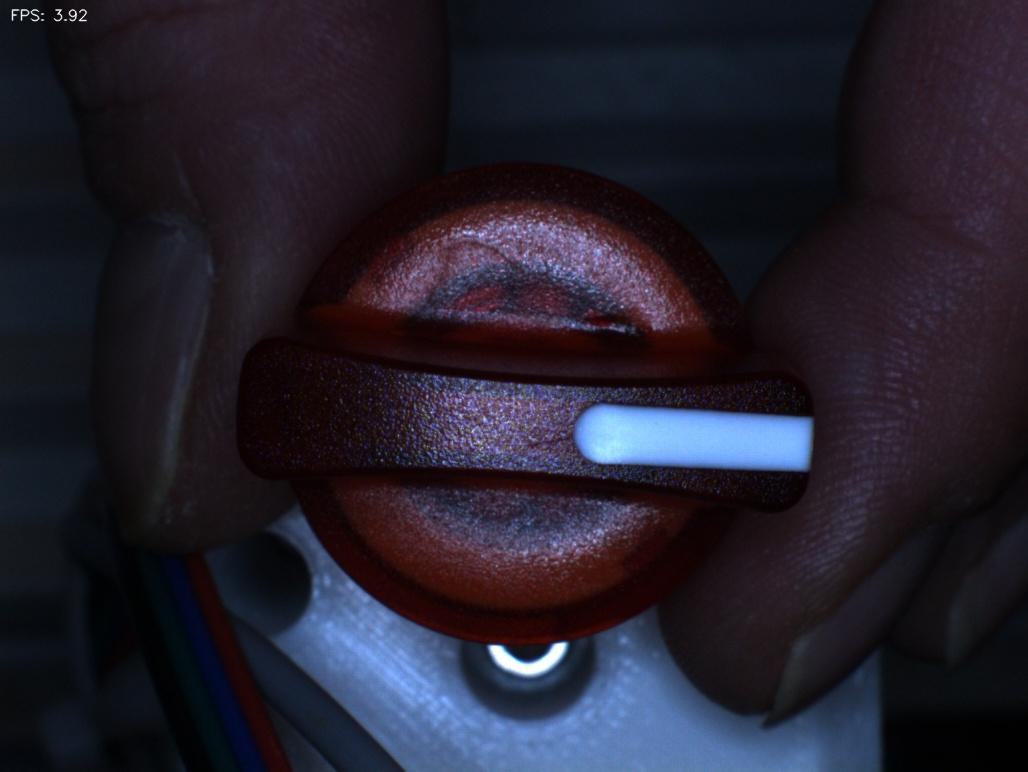Choc: (570, 288, 664, 374)
